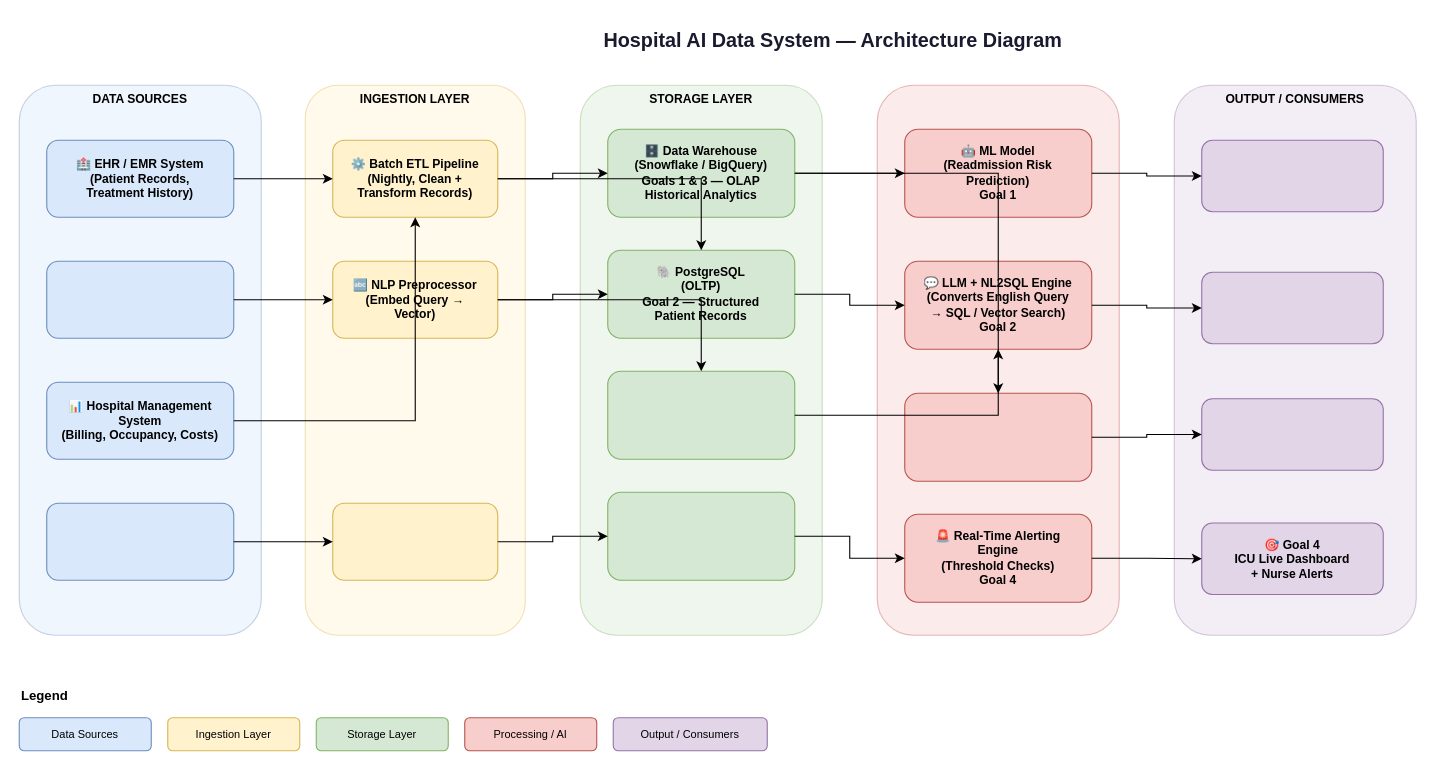
The diagram is 1436 pixels wide and 770 high, and some of its shapes have lost their labels. The shapes that lost their labels are listed below. From the top down, each one's box as (x1, y1, x2, y2) in pixels, then its label:
(1201, 139, 1383, 212): 🎯 Goal 1 Readmission Risk Score Dashboard
(46, 260, 234, 338): 👨‍⚕️ Doctor Query Interface (Plain English Questions)
(1201, 271, 1383, 344): 🎯 Goal 2 Doctor Answer Panel (Plain English Response)
(876, 84, 1119, 635): PROCESSING / AI LAYER
(607, 370, 795, 459): 🔍 Vector Database (Pinecone / pgvector) Goal 2 — Embeddings Semantic Search
(1201, 398, 1383, 470): 🎯 Goal 3 Monthly Management Reports (PDF / BI Tool)
(904, 392, 1092, 481): 📋 Reporting Engine (Aggregation + Visualisation Layer) Goal 3
(46, 502, 234, 580): 💓 ICU Monitoring Devices (Real-Time Vitals: HR, BP, SpO₂, Temp)
(332, 502, 498, 580): 📡 Streaming Ingest (Kafka / MQTT Real-Time Feed)
(607, 491, 795, 580): 📈 Time-Series DB (InfluxDB / TimescaleDB) Goal 4 — Real-Time ICU Vitals
